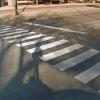Crosswalk: (2, 19, 97, 84)
